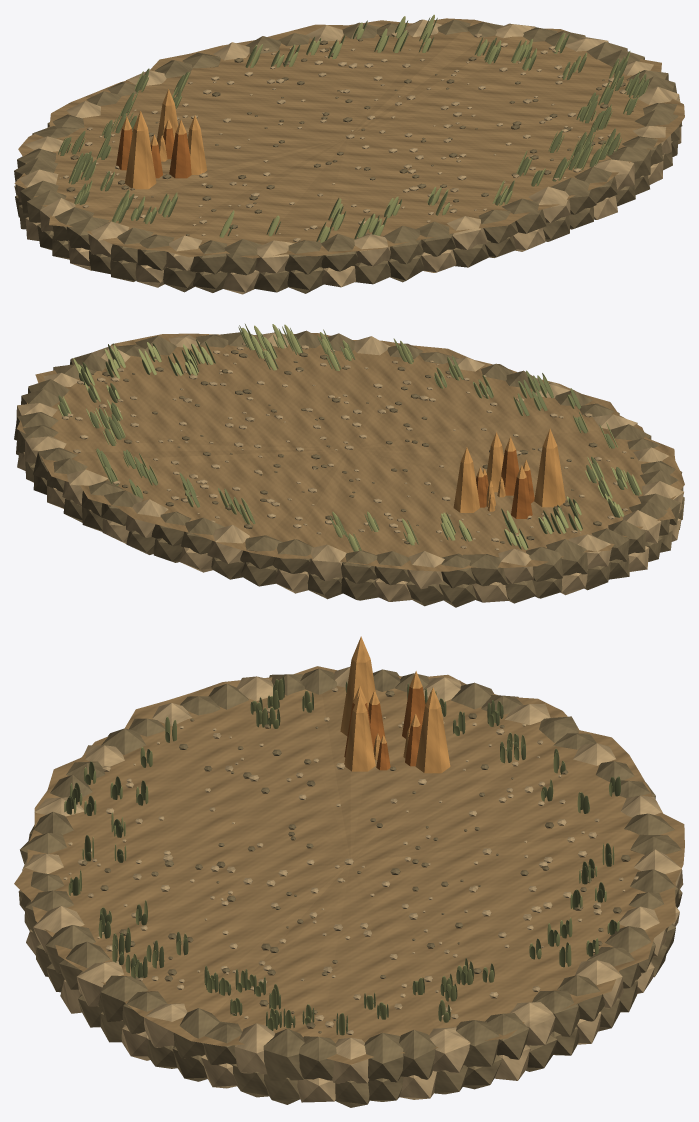
Rendered from environment.glb.
The picture shows the model from 3 angles, top to bottom: view 1: azimuth 30°, elevation 25°; view 2: azimuth 150°, elevation 25°; view 3: azimuth 270°, elevation 25°; orthographic projection. The views are drawn at different scales.
Visible parts, largest first — view 1: Soil cap, environment_stone, environment_stone_light, environment_leaf, environment_leaf_light, environment_crystal_light, environment_crystal; view 2: Soil cap, environment_stone, environment_stone_light, environment_leaf, environment_leaf_light, environment_crystal_light, environment_crystal; view 3: Soil cap, environment_stone, environment_stone_light, environment_leaf, environment_leaf_light, environment_crystal_light, environment_crystal.
Part boxes in pixels (x1,y1,x2,y2): Soil cap: [14, 18, 684, 258]; environment_stone: [14, 19, 682, 293]; environment_stone_light: [14, 19, 681, 294]; environment_leaf: [60, 17, 648, 241]; environment_leaf_light: [58, 14, 649, 242]; environment_crystal_light: [122, 89, 206, 189]; environment_crystal: [116, 128, 191, 178]; Soil cap: [17, 333, 684, 571]; environment_stone: [14, 330, 684, 607]; environment_stone_light: [16, 332, 683, 602]; environment_leaf: [58, 324, 639, 551]; environment_leaf_light: [57, 324, 641, 551]; environment_crystal_light: [453, 428, 565, 512]; environment_crystal: [476, 450, 534, 518]; Soil cap: [14, 666, 684, 1064]; environment_stone: [18, 668, 682, 1107]; environment_stone_light: [22, 667, 683, 1102]; environment_leaf: [66, 676, 620, 1034]; environment_leaf_light: [64, 679, 620, 1035]; environment_crystal_light: [340, 636, 450, 773]; environment_crystal: [344, 686, 425, 770].
Bounding box in the file's own units: 13.5 × 2.52 × 9.59.
7 materials, 5 textured.
